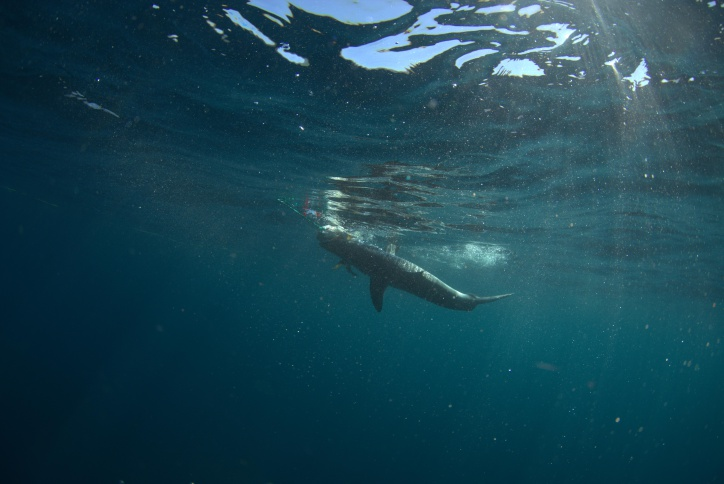Mako: (322, 222, 522, 321)
